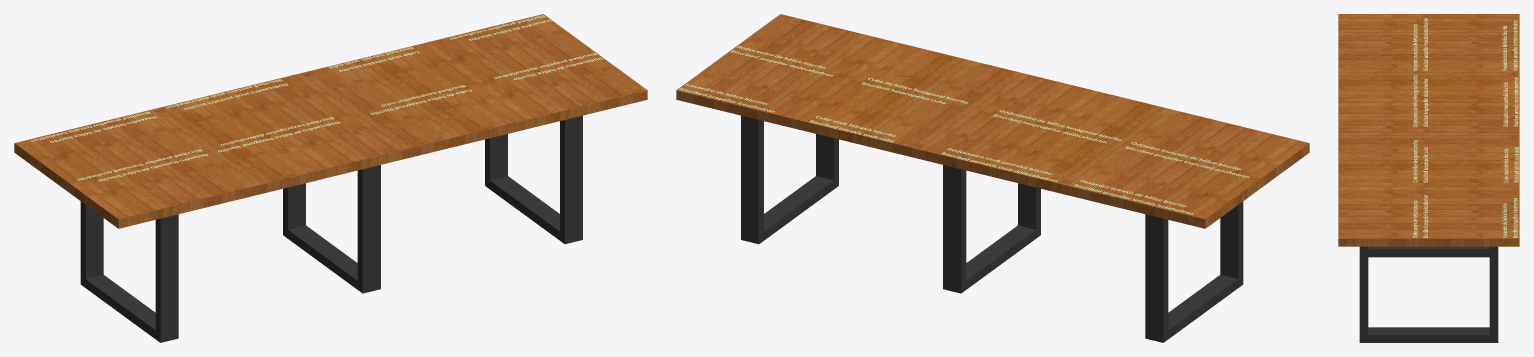
The model's file is biscribed4.glb.
3 renders of one model, left to right at view 1: azimuth 30°, elevation 25°; view 2: azimuth 150°, elevation 25°; view 3: azimuth 270°, elevation 25°, orthographic. The views are drawn at different scales.
Visible parts, largest first — view 1: object 1, Composant#1 (×3), Dodecaedro de hé#1, Octaedro truncad#1, Hexaedro tetraki, Dodecaedro snub #2; view 2: object 1, Composant#1 (×3), Dodecaedro de hé#1, Octaedro truncad#1, Hexaedro tetraki, Dodecaedro snub #2; view 3: object 1, Composant#1 (×2), Dodecaedro de hé#1, Octaedro truncad#1, Hexaedro tetraki, Dodecaedro snub #2, Dodecaedro de hé, Cubo de hélice h, Icosaedro de hél, Cubo snub tetrak.
Part boxes in pixels (box(x1,y1,x2,y2)): object 1: box(14, 14, 647, 228); Composant#1 (×3): box(80, 115, 582, 342); Dodecaedro de hé#1: box(218, 117, 339, 151); Octaedro truncad#1: box(77, 149, 207, 181); Hexaedro tetraki: box(31, 111, 156, 142); Dodecaedro snub #2: box(165, 79, 287, 109); object 1: box(676, 14, 1309, 228); Composant#1 (×3): box(741, 115, 1243, 342); Dodecaedro de hé#1: box(993, 110, 1120, 143); Octaedro truncad#1: box(1125, 142, 1249, 178); Hexaedro tetraki: box(1074, 179, 1193, 214); Dodecaedro snub #2: box(941, 148, 1057, 182); object 1: box(1338, 14, 1519, 246); Composant#1 (×2): box(1359, 246, 1498, 342); Dodecaedro de hé#1: box(1412, 75, 1428, 126); Octaedro truncad#1: box(1412, 18, 1428, 70); Hexaedro tetraki: box(1502, 20, 1518, 70); Dodecaedro snub #2: box(1503, 77, 1519, 126); Dodecaedro de hé: box(1412, 195, 1428, 237); Cubo de hélice h: box(1412, 140, 1428, 182); Icosaedro de hél: box(1502, 198, 1518, 237); Cubo snub tetrak: box(1503, 147, 1518, 182).
Bounding box in the file's own units: 2.93 × 0.771 × 1.
3 materials, 1 textured.
